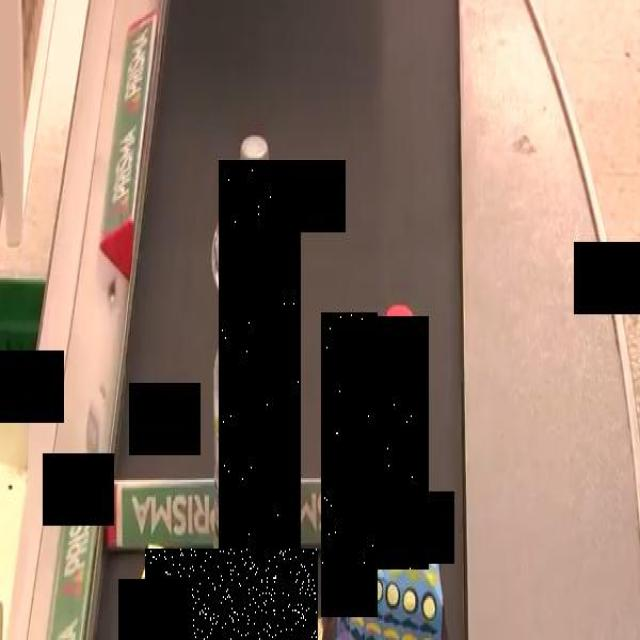beverage: (218, 160, 300, 602), (357, 317, 431, 571), (321, 314, 378, 621)
food-box: (145, 548, 316, 640)
